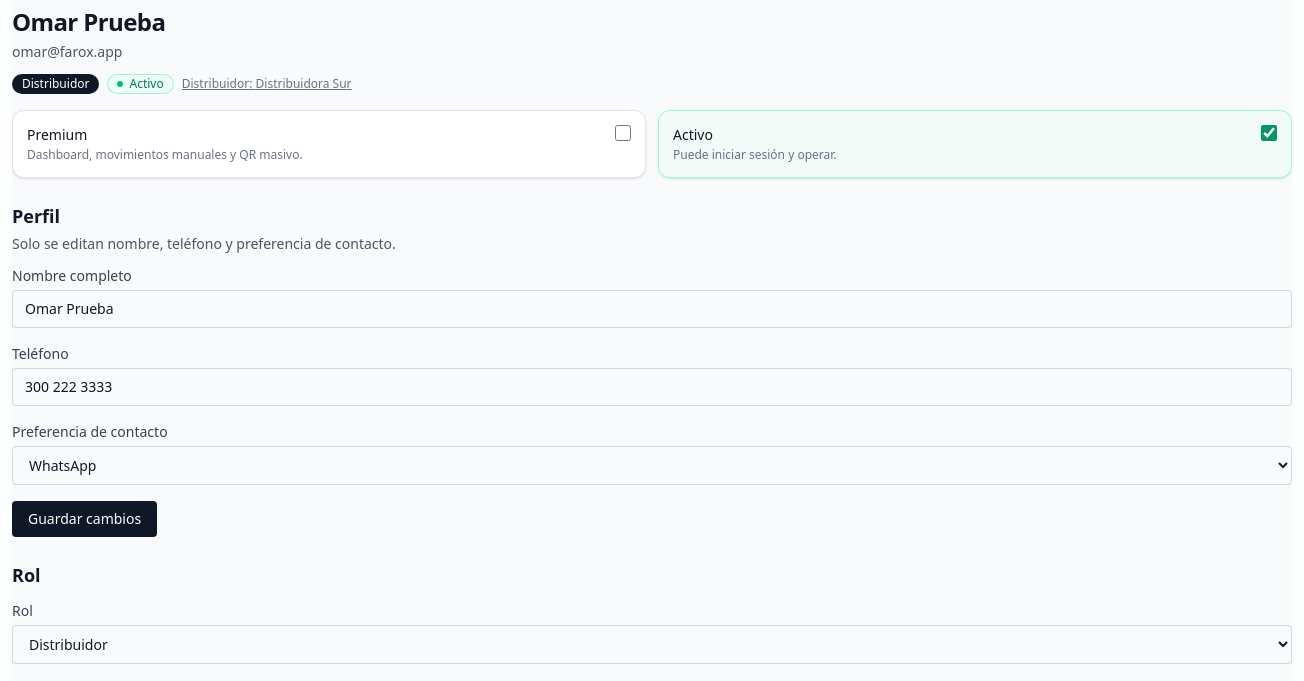
it: UserDetailPage · ADM-5 (rol SOLO vía update_user_role) › ADM-5.1: cambiar a «operador» ⇒ rpc con p_distributor NULL y badge actualizado tras refetch
Expected: the field showing "Omar Prueba" is shown, [12, 290, 1292, 328]
Select "Operador" in the dropdown labelled "Rol" at (652, 644), box [12, 625, 1292, 664]
(page scrolled)
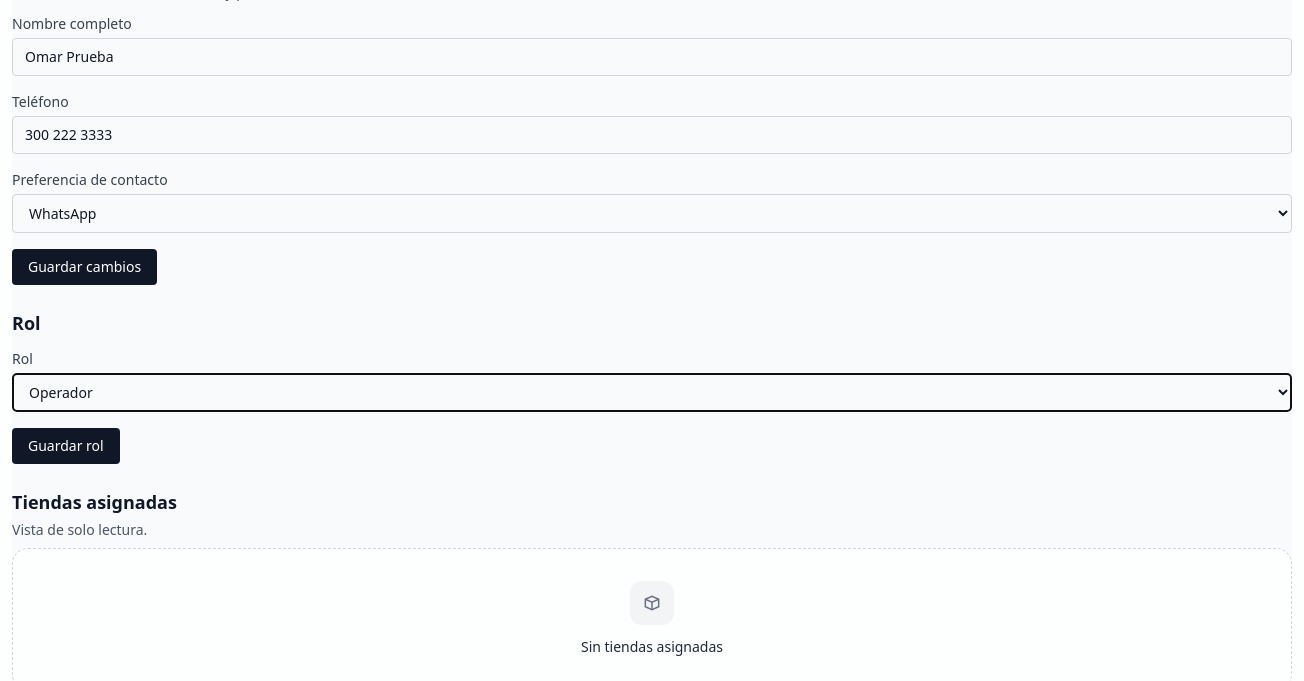
Click the button "Guardar rol".
click(66, 446)  # box [12, 428, 120, 464]
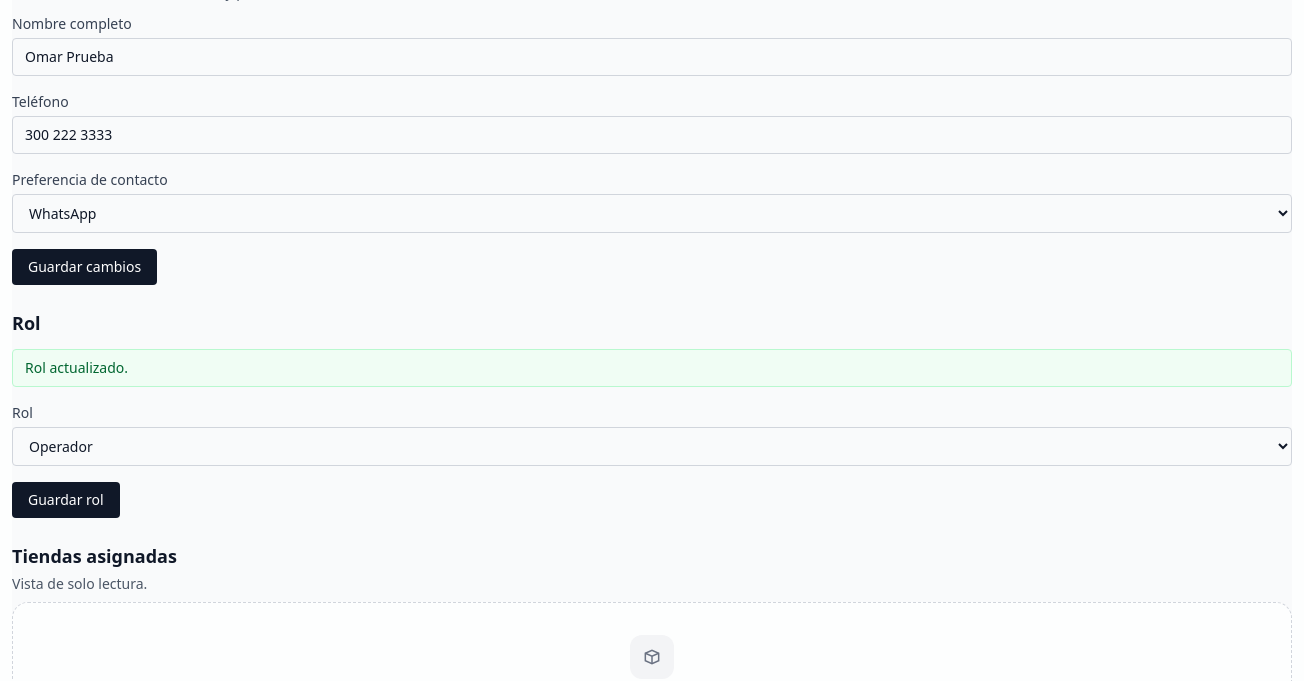
Now the text "Rol actualizado." is shown, box [12, 349, 1292, 387]
